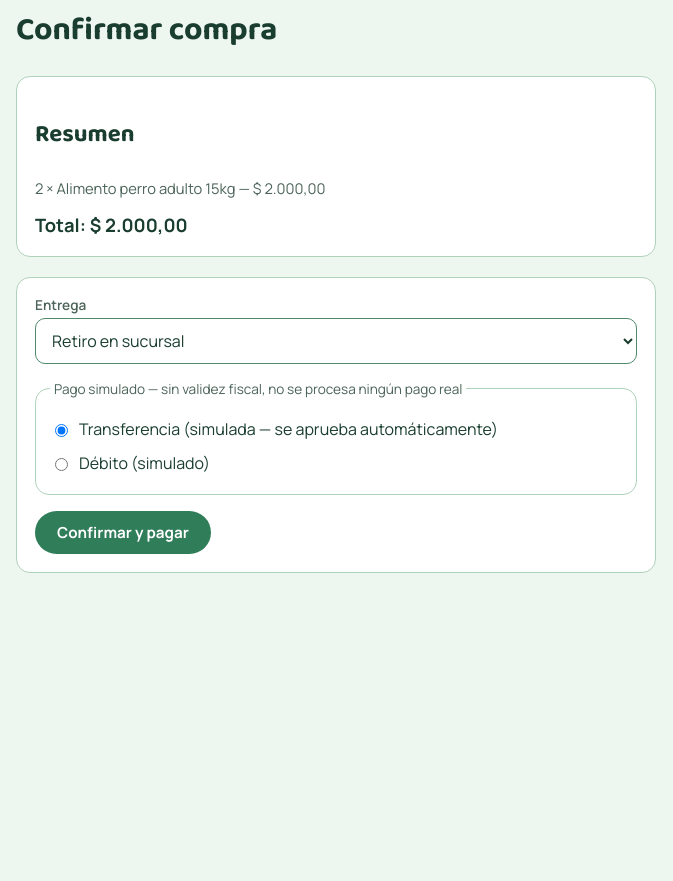
Scenario: Checkout › con débito, exige los campos de la tarjeta antes de enviar nada al backend
The width and height of the screenshot is (673, 881).
Expected: the text "Total: $ 2.000,00" is shown, [35,212,188,238]
Step 1. Click the radio button labelled "Débito (simulado)" → (62,464), box [55,458,68,471]
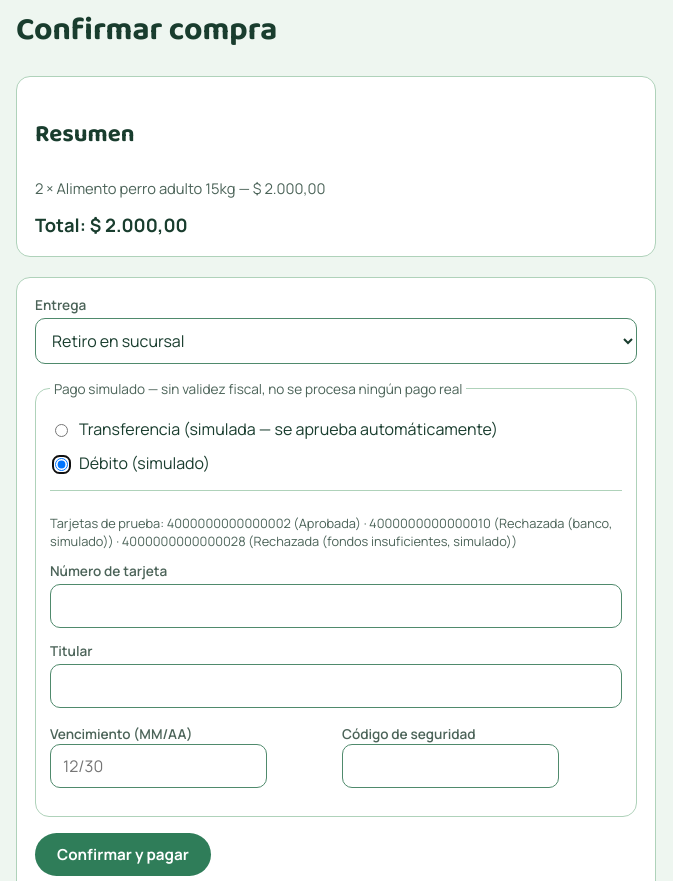
Step 2. Click the button "Confirmar y pagar" → (123,855), box [35,833,211,876]
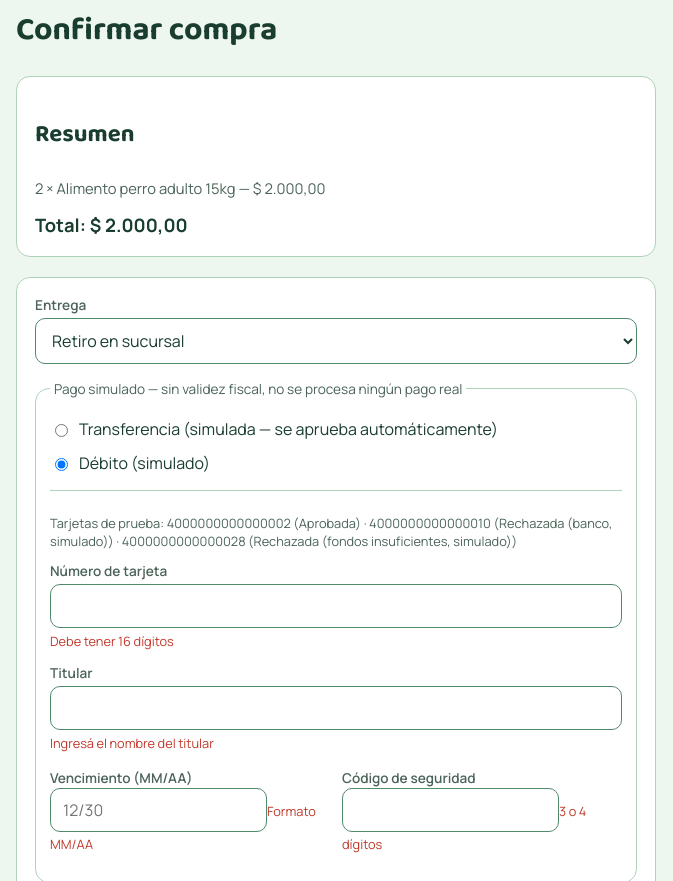
Result: the text "Debe tener 16 dígitos" is shown at [50,632,174,650]
